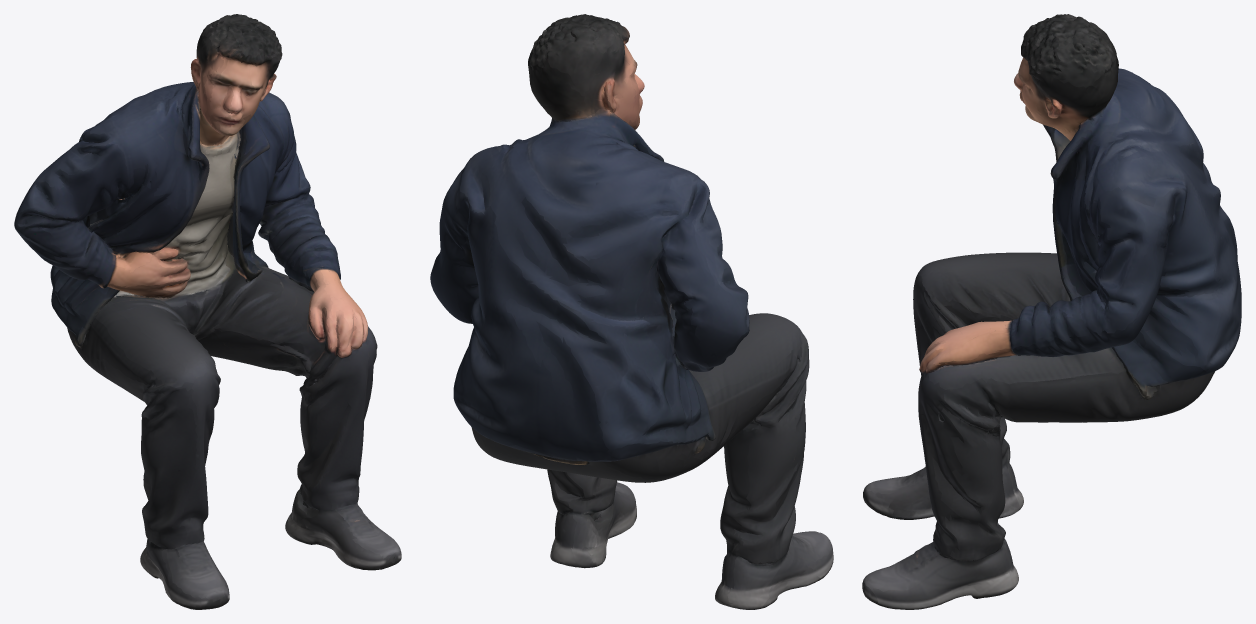
File: zhou-ill.glb
The picture shows the model from 3 angles, left to right: view 1: azimuth 30°, elevation 25°; view 2: azimuth 150°, elevation 25°; view 3: azimuth 270°, elevation 25°; orthographic projection. The views are drawn at different scales.
Visible parts, largest first — view 1: geometry_0; view 2: geometry_0; view 3: geometry_0.
Boxes of the visible parts, x1,y1,x2,y2 form: geometry_0: [14, 14, 401, 609]; geometry_0: [430, 14, 833, 609]; geometry_0: [862, 14, 1241, 609].
Bounding box in the file's own units: 0.5948 × 1 × 0.6326.
Materials: 1 (1 with a texture image).
